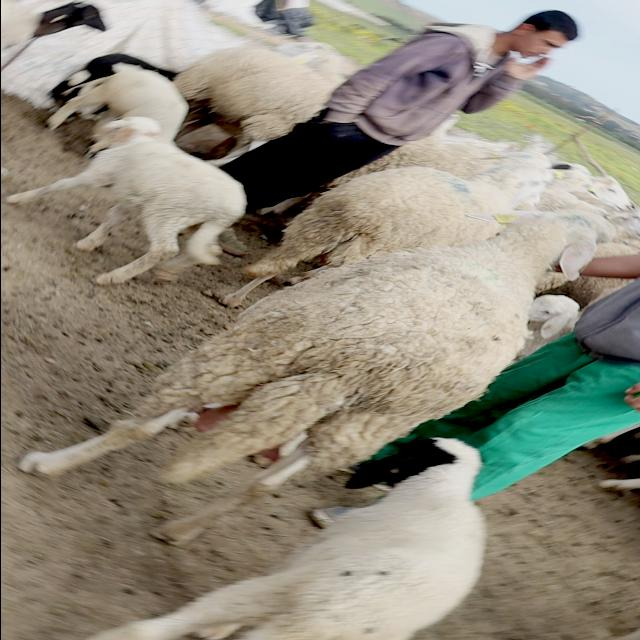Score_2: (20, 208, 614, 545)
